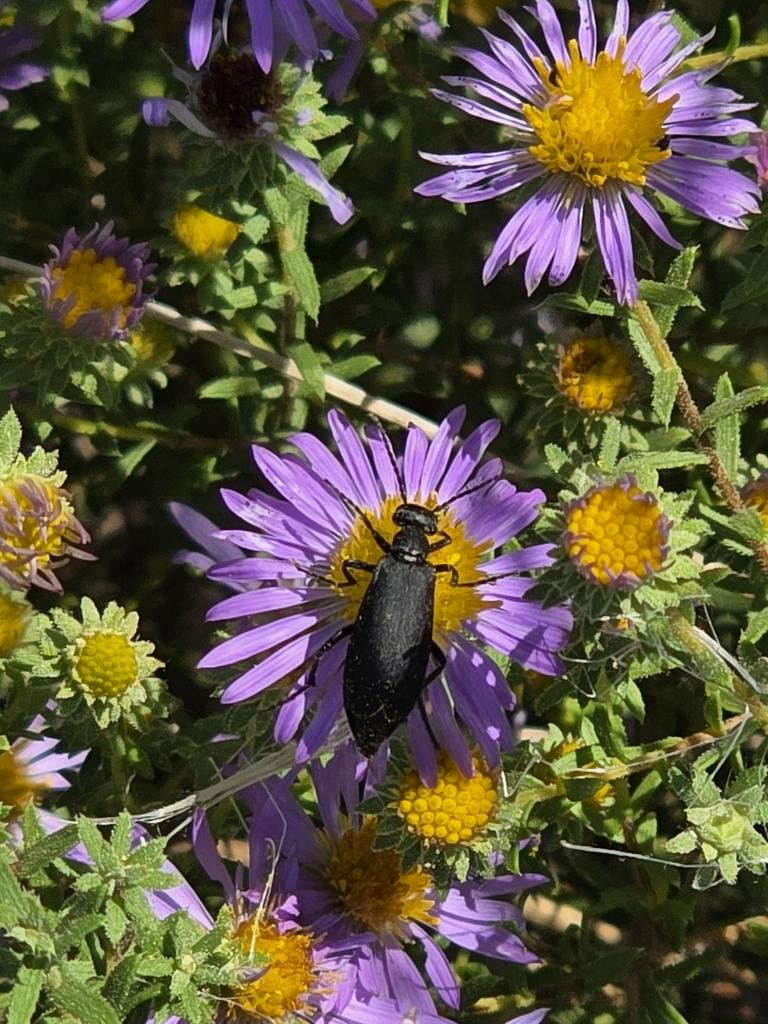blister_beetle: (223, 383, 574, 788)
